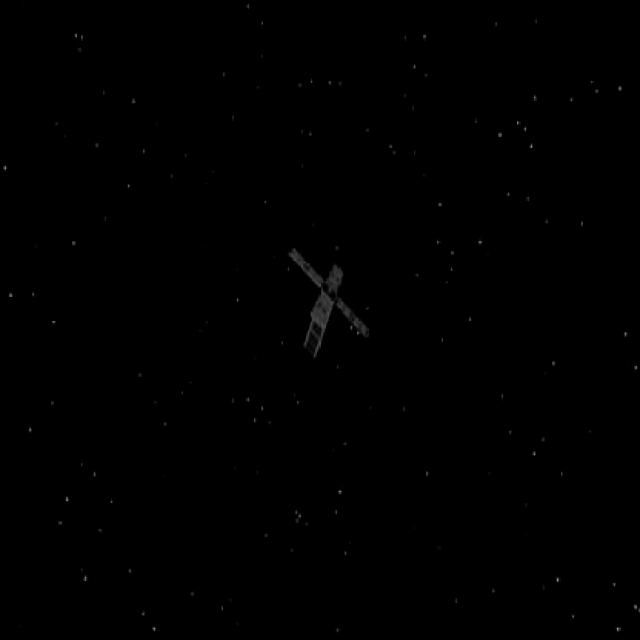satellite: (285, 238, 373, 375)
